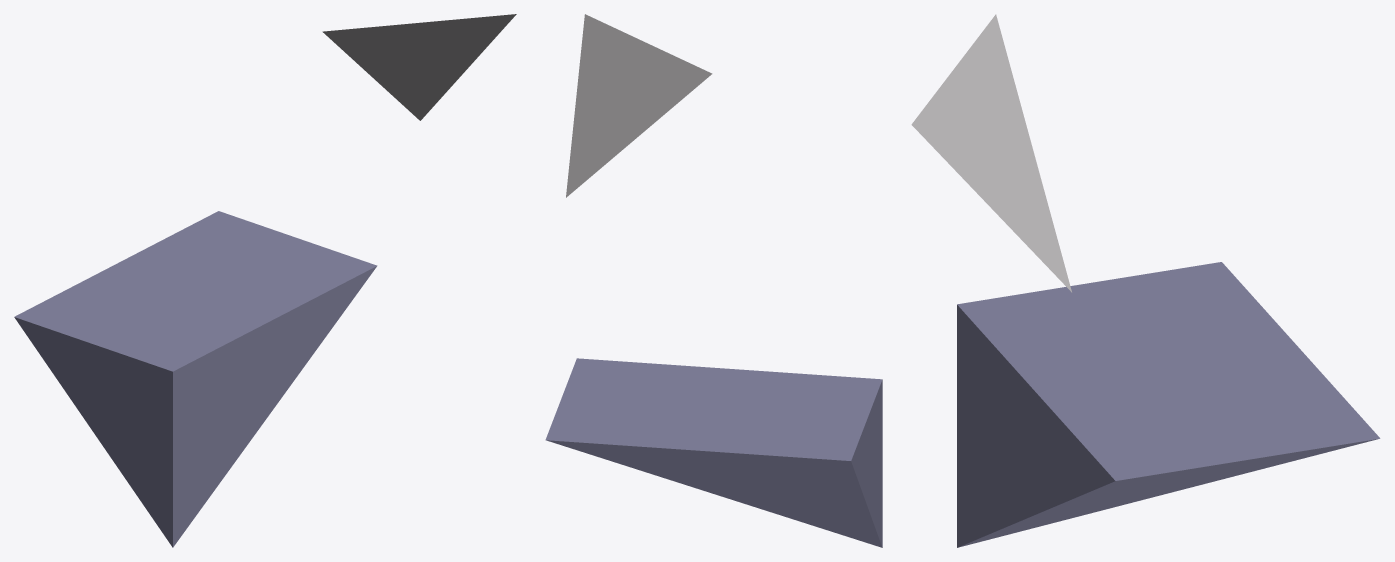
3 renders of one model, left to right at view 1: azimuth 30°, elevation 25°; view 2: azimuth 150°, elevation 25°; view 3: azimuth 270°, elevation 25°, orthographic. The views are drawn at different scales.
Parts seen in each view (by area): view 1: buildings; view 2: buildings; view 3: buildings.
Boxes of the visible parts, bbox=[...] form: buildings: bbox=[14, 14, 516, 547]; buildings: bbox=[545, 14, 882, 547]; buildings: bbox=[911, 14, 1380, 547].
Bounding box in the file's own units: 7.9 × 9.01 × 5.95.
